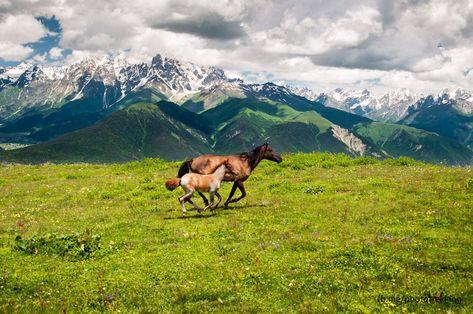horse: (177, 142, 282, 209), (164, 162, 227, 216)
